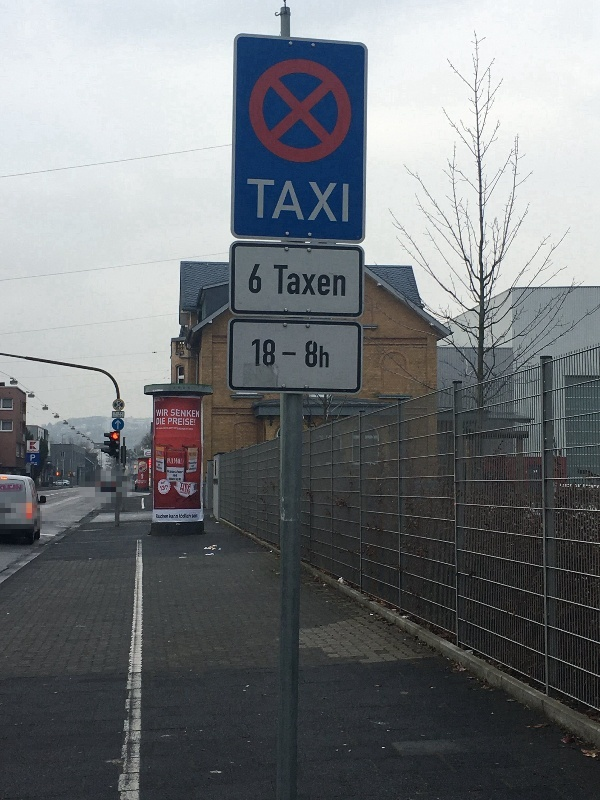text: (257, 175, 272, 227), (273, 175, 288, 227), (289, 175, 304, 227), (305, 175, 320, 227), (321, 175, 336, 227), (337, 175, 351, 227), (273, 261, 288, 299), (289, 261, 304, 299), (305, 261, 320, 299), (321, 261, 336, 299), (257, 336, 272, 371), (305, 338, 320, 371), (247, 175, 256, 227), (337, 261, 347, 299), (321, 338, 331, 371), (257, 262, 264, 294), (273, 336, 279, 371), (250, 262, 256, 294), (251, 336, 256, 371), (289, 347, 299, 363), (177, 409, 192, 418), (177, 417, 192, 426), (193, 451, 198, 473), (282, 347, 288, 363), (161, 513, 176, 519), (177, 513, 192, 519), (113, 412, 128, 418), (188, 451, 192, 473), (156, 450, 160, 472), (179, 488, 192, 494), (181, 482, 192, 489), (161, 426, 176, 431), (177, 426, 192, 431), (168, 417, 176, 426), (161, 409, 169, 417), (168, 473, 176, 481), (167, 458, 176, 465), (193, 409, 200, 418), (147, 451, 160, 455), (167, 470, 176, 475), (171, 409, 176, 418), (161, 450, 163, 472), (177, 473, 182, 481), (177, 458, 182, 465), (177, 470, 184, 475), (161, 418, 166, 425), (156, 409, 160, 417), (193, 513, 198, 519), (161, 485, 165, 492), (193, 417, 196, 426), (156, 513, 160, 519), (33, 454, 36, 462), (157, 418, 160, 425), (156, 426, 160, 431), (30, 454, 32, 462), (193, 426, 196, 431)
